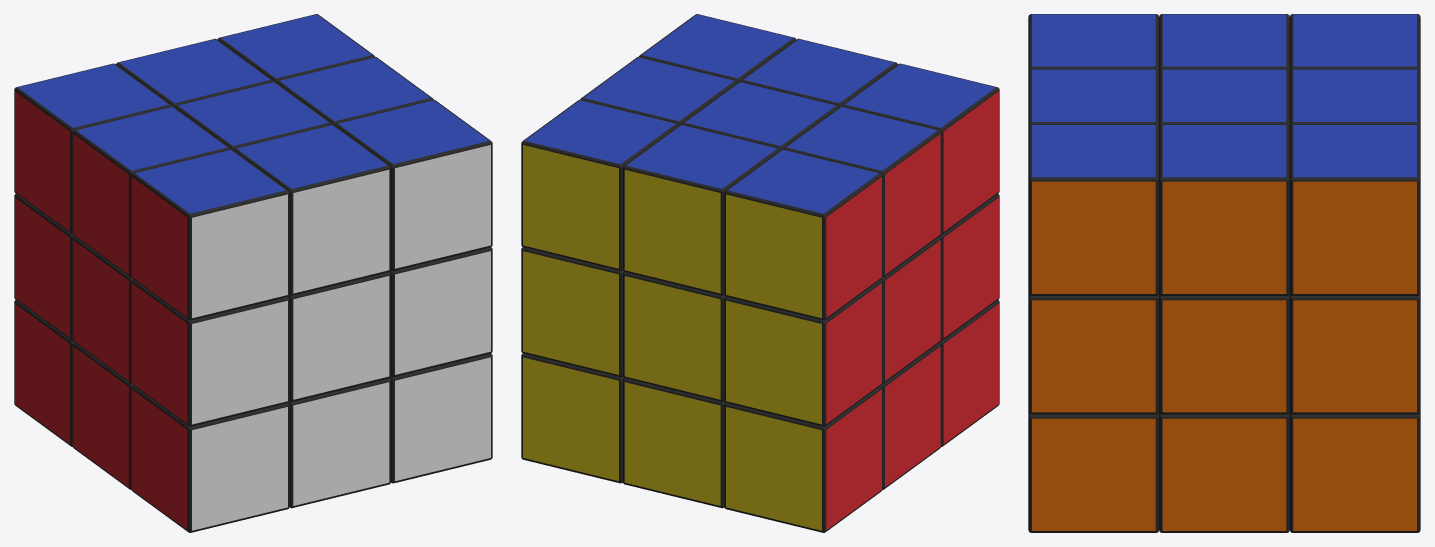
The model's file is rubiks_cube.glb.
3 views of the same model, side by side, from view 1: azimuth 30°, elevation 25°; view 2: azimuth 150°, elevation 25°; view 3: azimuth 270°, elevation 25° (orthographic). The views are drawn at different scales.
Parts seen in each view (by area): view 1: Cube.018, Cube, Cube.009, Cube.019, Cube.020, Cube.024, Cube.021, Cube.002, Cube.001, Cube.010, Cube.011, Cube.012 (+7 smaller); view 2: Cube.024, Cube.006, Cube.015, Cube.025, Cube.026, Cube.018, Cube.021, Cube.008, Cube.007, Cube.016, Cube.017, Cube.009 (+7 smaller); view 3: Cube.020, Cube.026, Cube.023, Cube.011, Cube.017, Cube.005, Cube.014, Cube.002, Cube.008, Cube.021, Cube.022, Cube.018 (+3 smaller).
Part boxes in pixels (x1,y1,x2,y2): Cube.018: (131, 149, 289, 320); Cube: (131, 386, 289, 532); Cube.009: (131, 279, 289, 426); Cube.019: (233, 124, 390, 295); Cube.020: (334, 100, 492, 270); Cube.024: (14, 63, 171, 234); Cube.021: (73, 106, 230, 277); Cube.002: (390, 353, 492, 483); Cube.001: (288, 378, 390, 508); Cube.010: (288, 272, 390, 401); Cube.011: (390, 247, 492, 377); Cube.012: (73, 236, 132, 383); Cube.024: (724, 149, 882, 320); Cube.006: (724, 386, 882, 532); Cube.015: (724, 279, 882, 426); Cube.025: (623, 124, 780, 295); Cube.026: (521, 100, 679, 270); Cube.018: (842, 63, 999, 234); Cube.021: (783, 106, 940, 277); Cube.008: (521, 353, 623, 483); Cube.007: (623, 378, 725, 508); Cube.016: (623, 272, 725, 401); Cube.017: (521, 247, 623, 377); Cube.009: (940, 194, 999, 340); Cube.020: (1028, 124, 1158, 295); Cube.026: (1290, 124, 1420, 295); Cube.023: (1159, 124, 1289, 295); Cube.011: (1028, 293, 1158, 414); Cube.017: (1290, 293, 1420, 414); Cube.005: (1159, 412, 1289, 532); Cube.014: (1159, 293, 1289, 414); Cube.002: (1028, 412, 1158, 532); Cube.008: (1290, 412, 1420, 532); Cube.021: (1159, 14, 1289, 71); Cube.022: (1159, 69, 1289, 126); Cube.018: (1028, 14, 1158, 71).
Bounding box in the file's own units: 3 × 3 × 3.
